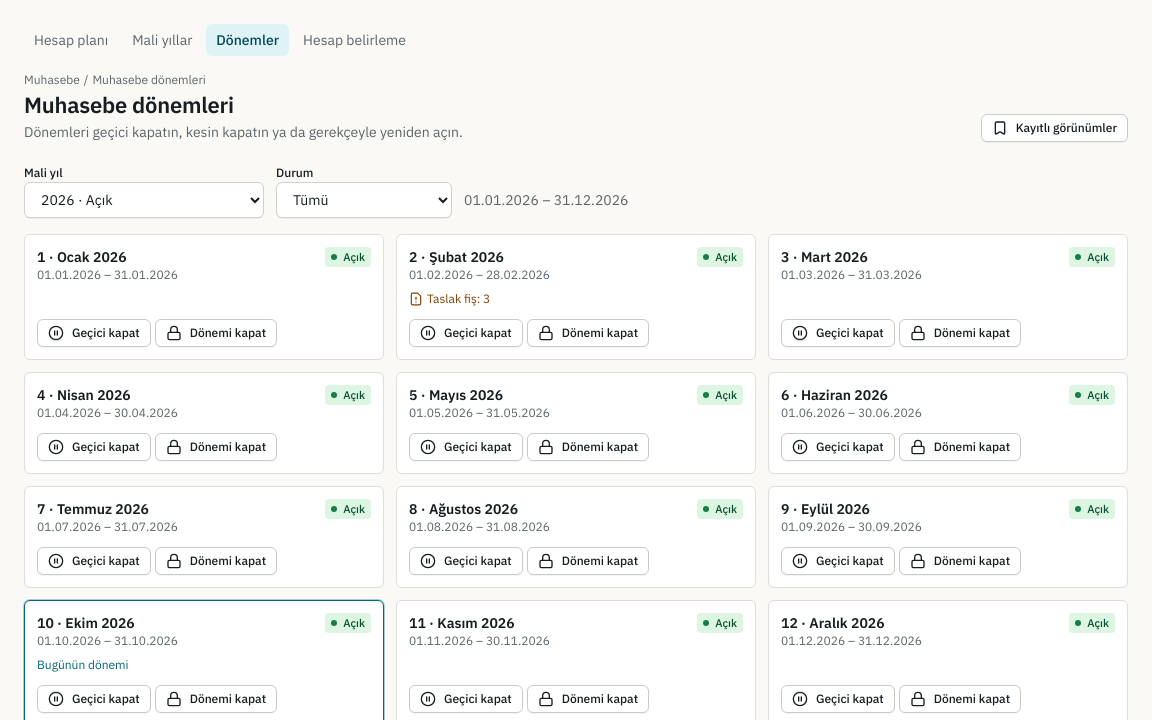
PeriodsBoardPage › shows why closing is blocked when the period has draft entries
Expected: the text "Taslak fiş: 3" is shown, [409,291,490,306]
What coordinates should you click on to do the following:
click the button with aria-label "dönemini kapat"
I would click on:
 (588, 333)
Its box is [527,319,649,347].
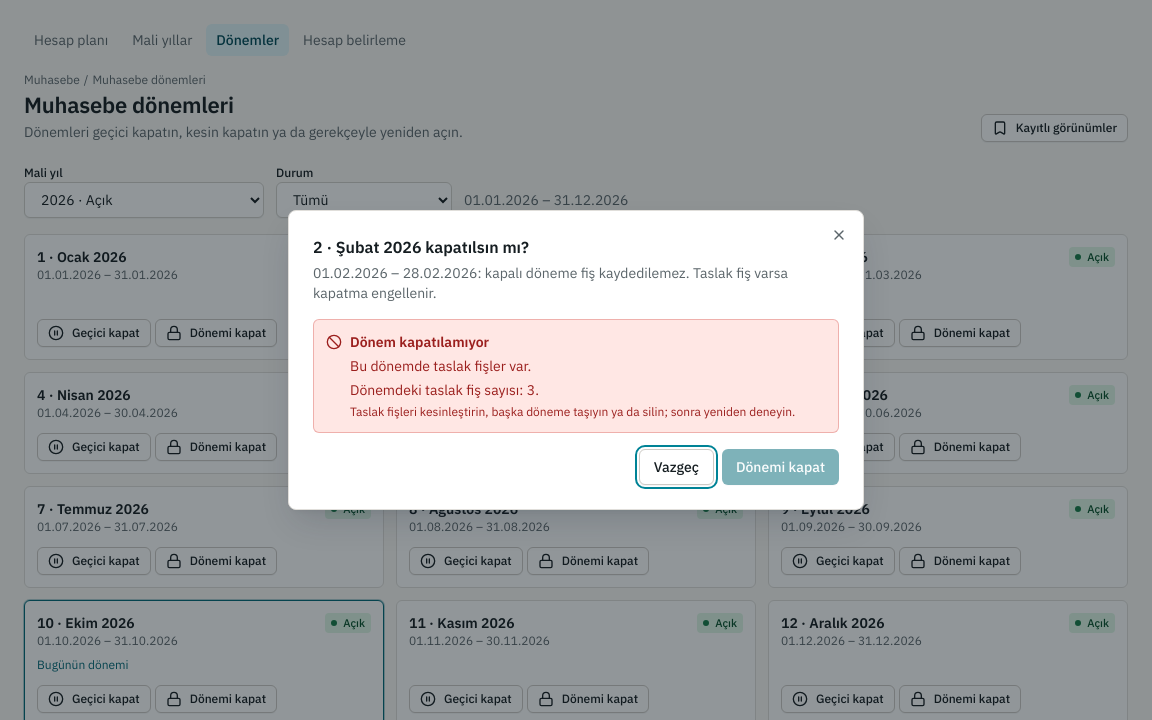
Expected: the text "Dönem kapatılamıyor" is shown, [350,333,489,351]
Expected: the button "Dönemi kapat" is disabled, [722,449,839,485]
